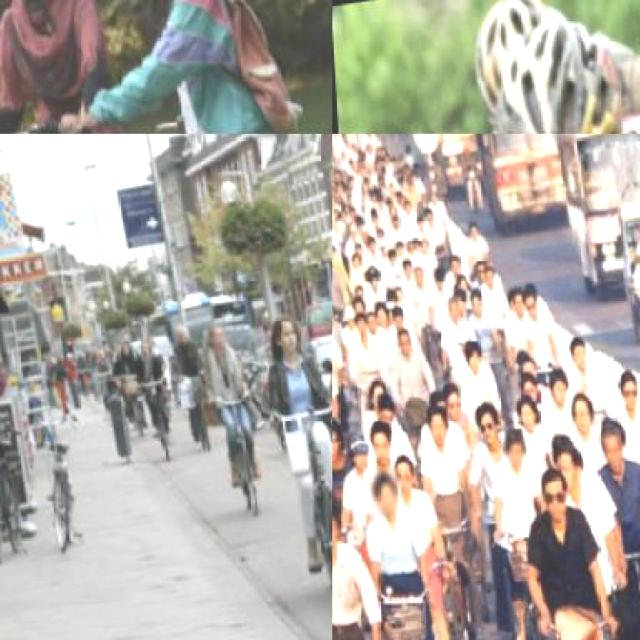With Helmet: (472, 0, 638, 132), (628, 237, 638, 274)
Without Helmet: (526, 463, 571, 526), (259, 312, 307, 365), (358, 468, 398, 522), (417, 407, 449, 459), (496, 432, 527, 479), (198, 318, 228, 356), (167, 318, 188, 351)
